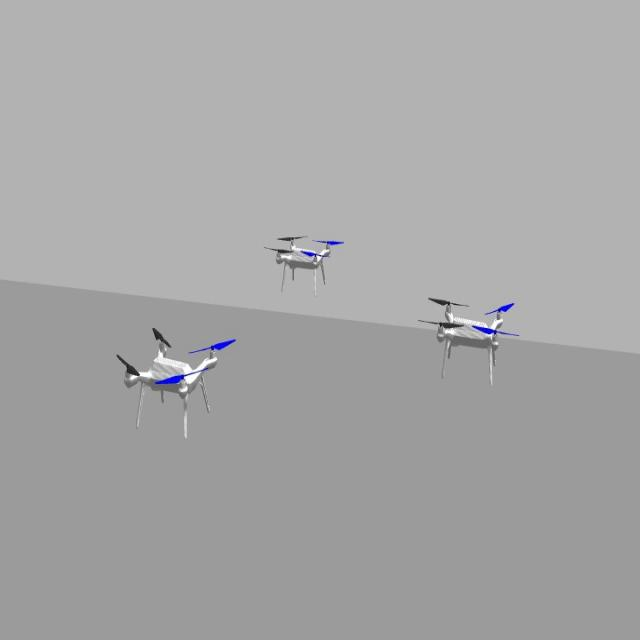Drone: (267, 217, 344, 295)
